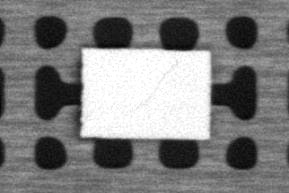DIE_CRACK: (146, 59, 178, 102)
